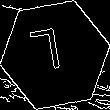L_S: (36, 27, 74, 83)
